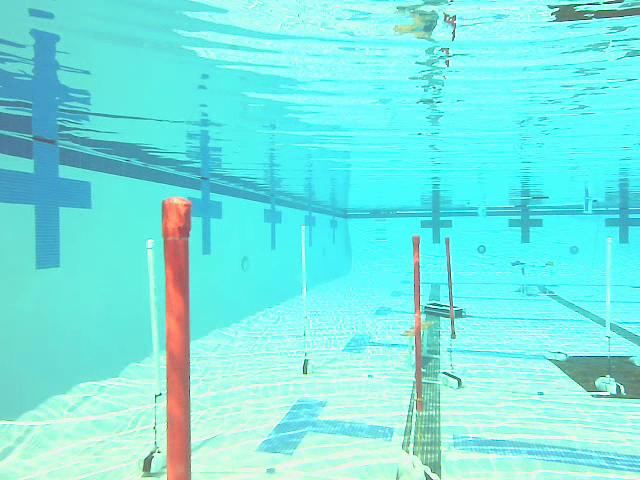black_poster: (152, 192, 217, 478), (404, 233, 436, 415), (436, 233, 474, 349)
white_poster: (132, 234, 170, 475), (589, 234, 630, 397), (285, 225, 322, 379)
